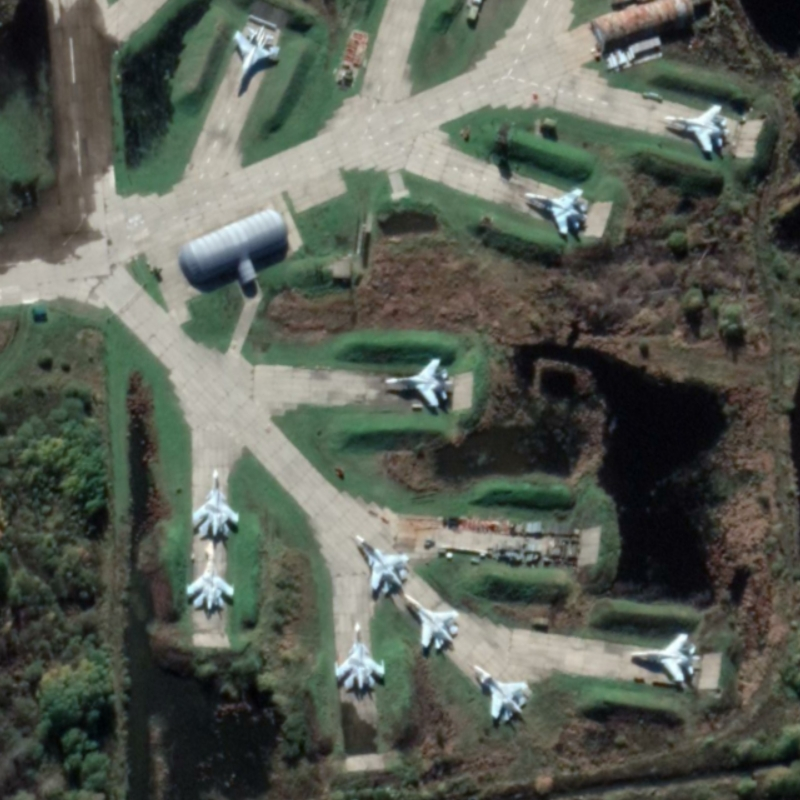A1: (231, 25, 283, 98), (383, 357, 454, 409), (630, 632, 702, 683), (185, 539, 236, 611), (662, 103, 731, 154), (402, 592, 460, 651), (473, 664, 530, 723), (523, 186, 589, 236)
A19: (332, 620, 387, 692), (190, 467, 242, 539), (353, 532, 411, 596)
